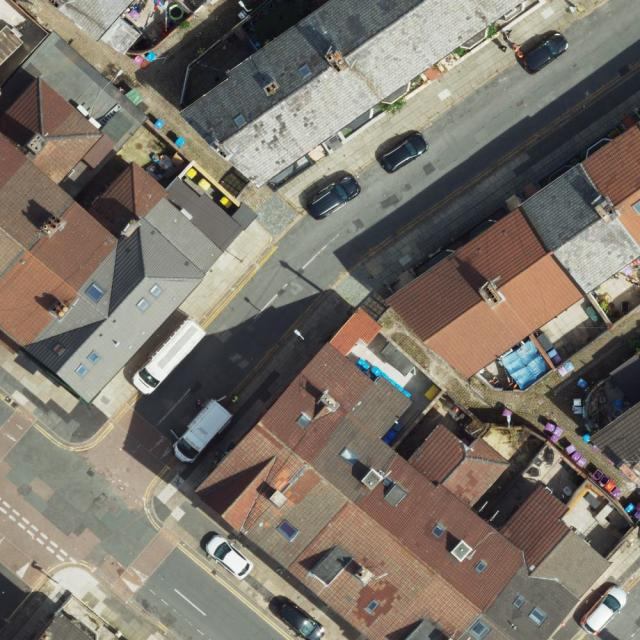roof: (194, 307, 612, 640), (0, 78, 243, 404), (386, 119, 640, 380), (179, 0, 527, 188)
skylight: (275, 519, 300, 542), (467, 619, 490, 640), (84, 281, 105, 302), (338, 448, 361, 466), (528, 607, 547, 628), (233, 113, 249, 130), (296, 413, 311, 429), (431, 522, 446, 538), (364, 600, 380, 614), (136, 297, 150, 312), (150, 283, 163, 298), (75, 364, 90, 377), (87, 350, 100, 364), (476, 560, 488, 574), (513, 595, 525, 608), (300, 65, 311, 79), (633, 200, 640, 214)
